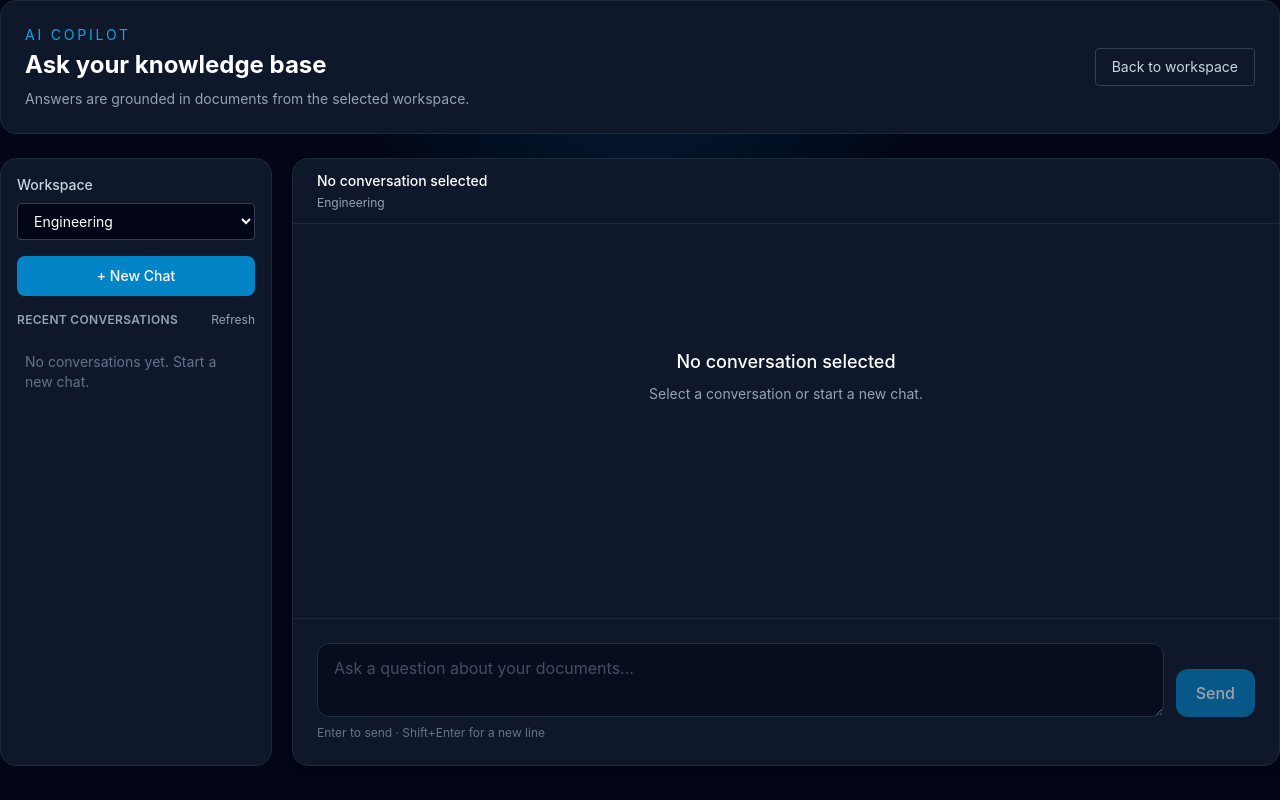
Test case: ChatPage › creates a new conversation and selects the empty conversation
Click the button "+ New Chat". click: (136, 276)
box: [17,256,255,296]
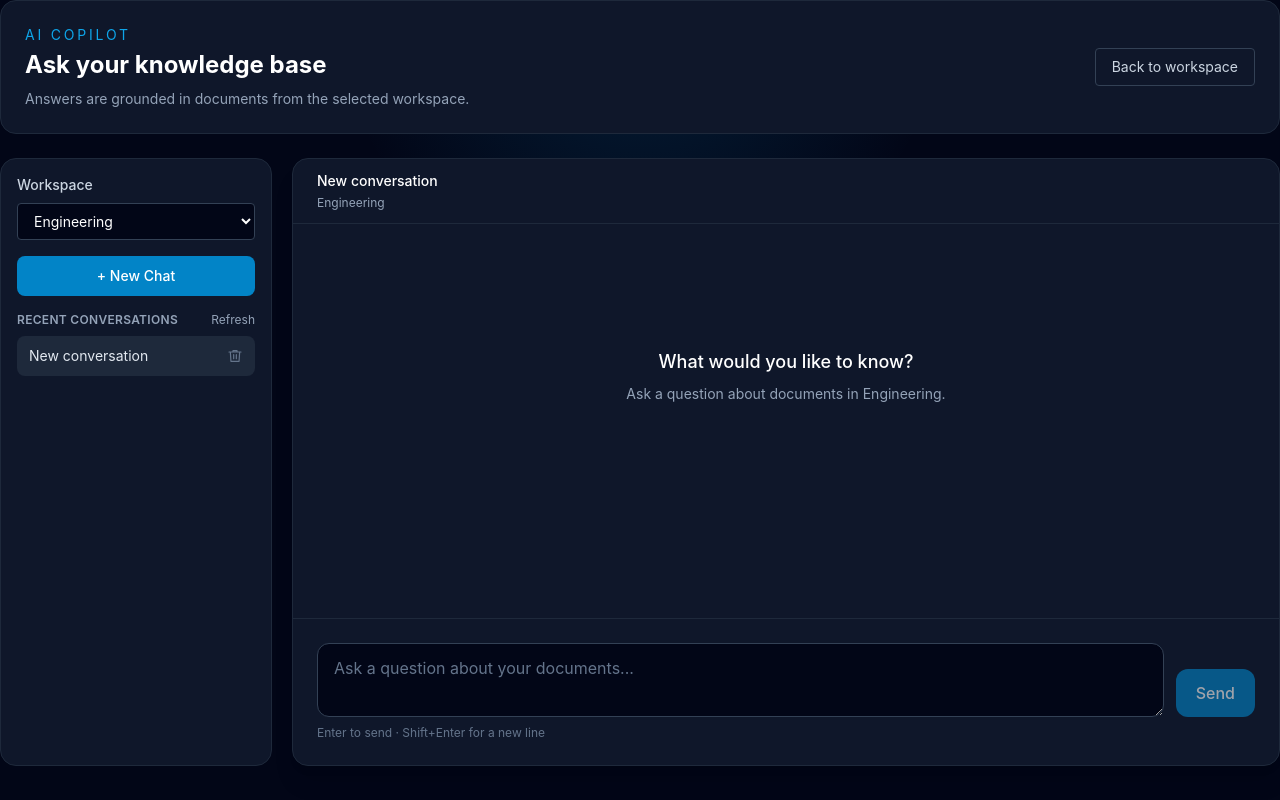
Result: the text "What would you like to know?" is shown at [658,348,913,376]
